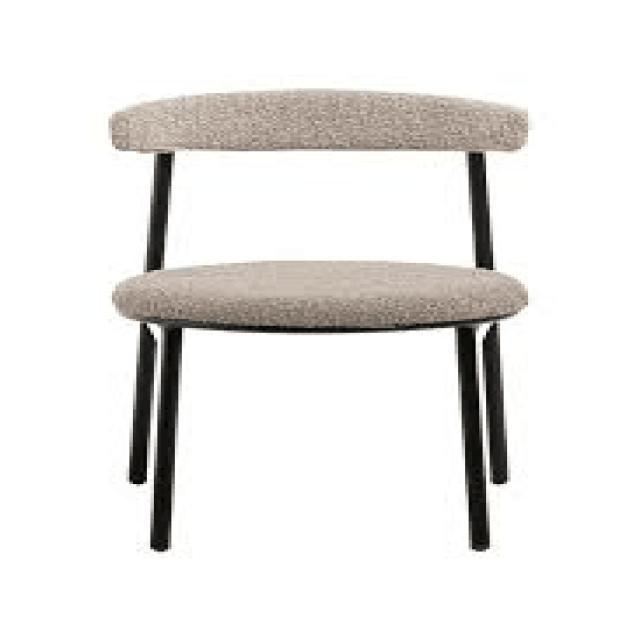chair: (107, 80, 535, 554), (100, 87, 536, 336)
